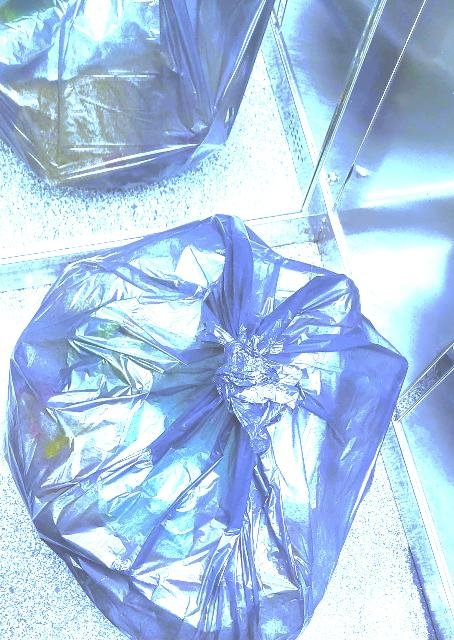Plastik: (7, 218, 409, 640)
